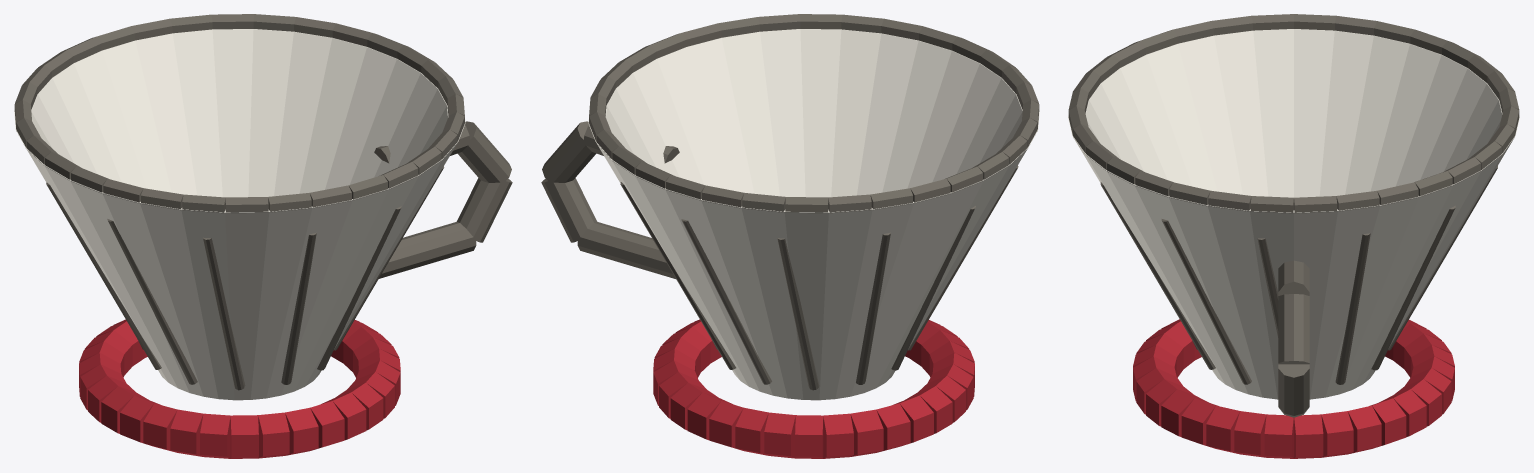
File: dripper.glb
The picture shows the model from 3 angles, left to right: view 1: azimuth 30°, elevation 25°; view 2: azimuth 150°, elevation 25°; view 3: azimuth 270°, elevation 25°; orthographic projection.
Visible parts, largest first — view 1: conical wall, handle3, handle2, handle1, flute40, flute30, flute50, support foot9, support foot11, support foot12, support foot10, support foot8 (+40 smaller); view 2: conical wall, handle3, handle2, handle1, flute80, flute70, flute90, support foot22, support foot20, support foot19, support foot21, support foot23 (+40 smaller); view 3: conical wall, handle1, handle2, flute110, flute10, support foot1, support foot30, support foot0, support foot31, support foot2, support foot29, flute100 (+42 smaller).
Boxes of the visible parts, box(x1,y1,x2,y2) form: conical wall: box(14, 29, 465, 400); handle3: box(379, 221, 476, 278); handle2: box(457, 178, 512, 242); handle1: box(457, 121, 511, 183); flute40: box(203, 237, 245, 390); flute30: box(281, 232, 316, 384); flute50: box(107, 219, 197, 384); support foot9: box(258, 412, 289, 458); support foot11: box(200, 413, 230, 458); support foot12: box(170, 409, 203, 456); support foot10: box(230, 415, 258, 458); support foot8: box(285, 407, 318, 455); conical wall: box(588, 29, 1039, 400); handle3: box(577, 221, 675, 278); handle2: box(541, 178, 596, 242); handle1: box(542, 121, 596, 183); flute80: box(777, 238, 819, 390); flute70: box(856, 232, 890, 384); flute90: box(681, 219, 771, 384); support foot22: box(764, 412, 795, 458); support foot20: box(823, 413, 853, 458); support foot19: box(850, 409, 883, 456); support foot21: box(795, 415, 823, 458); support foot23: box(735, 407, 768, 455); conical wall: box(1068, 29, 1519, 399); handle1: box(1278, 294, 1309, 364); handle2: box(1278, 364, 1309, 415); flute110: box(1335, 233, 1370, 384); flute10: box(1161, 219, 1251, 384); support foot1: box(1234, 411, 1266, 457); support foot30: box(1321, 411, 1353, 457); support foot0: box(1264, 414, 1293, 458); support foot31: box(1294, 414, 1323, 458); support foot2: box(1206, 405, 1239, 454); support foot29: box(1348, 405, 1381, 454); flute100: box(1371, 205, 1455, 370).
Size of the model in its own units: 1.57 by 0.947 by 1.32.
